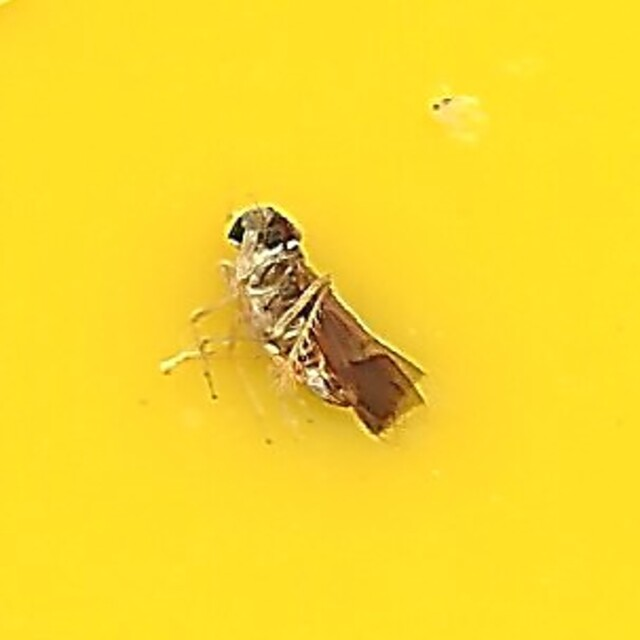Hemiptera: (211, 198, 429, 442)
